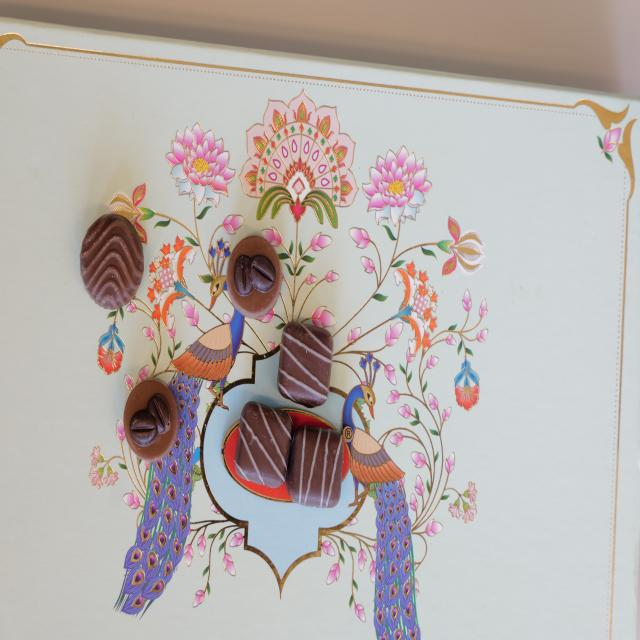Arabia: (228, 236, 282, 317), (124, 379, 178, 458)
Noir_authentique: (80, 213, 144, 311)
Stracciatella: (235, 401, 292, 488), (278, 322, 334, 406), (288, 427, 346, 508)
